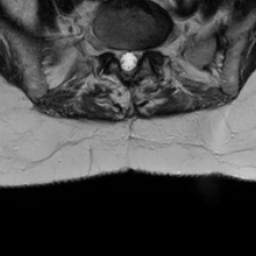CCS_normal: (123, 42, 132, 83)
LFS_severe_stenosis: (141, 36, 151, 61)
LLS_normal: (132, 42, 141, 73)
RFS_severe_stenosis: (104, 36, 114, 61)
RLS_normal: (114, 42, 123, 75)
